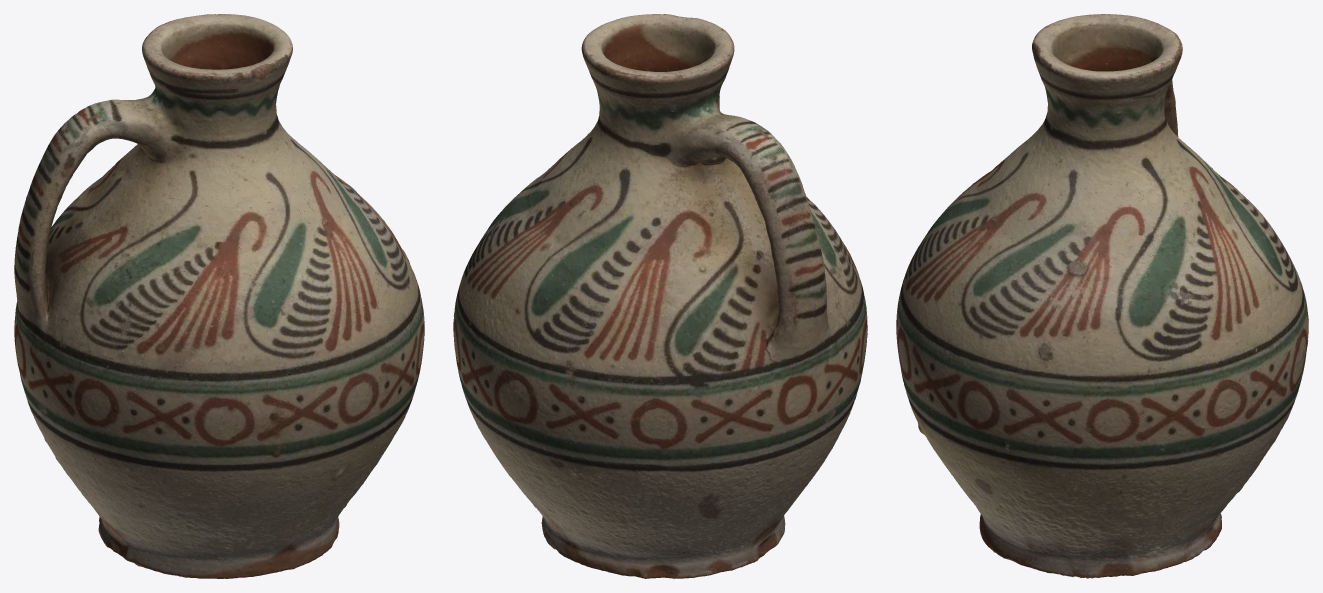
File: 静物_瓶罐_Глечик_opt.glb
3 views of the same model, side by side, from view 1: azimuth 30°, elevation 25°; view 2: azimuth 150°, elevation 25°; view 3: azimuth 270°, elevation 25° (orthographic).
Visible parts, largest first — view 1: glechikxoxox; view 2: glechikxoxox; view 3: glechikxoxox.
Boxes of the visible parts, x1,y1,x2,y2 form: glechikxoxox: [14, 14, 424, 578]; glechikxoxox: [453, 14, 867, 578]; glechikxoxox: [896, 14, 1308, 578].
Bounding box in the file's own units: 0.2309 × 0.2999 × 0.2308.
1 material, 1 textured.
